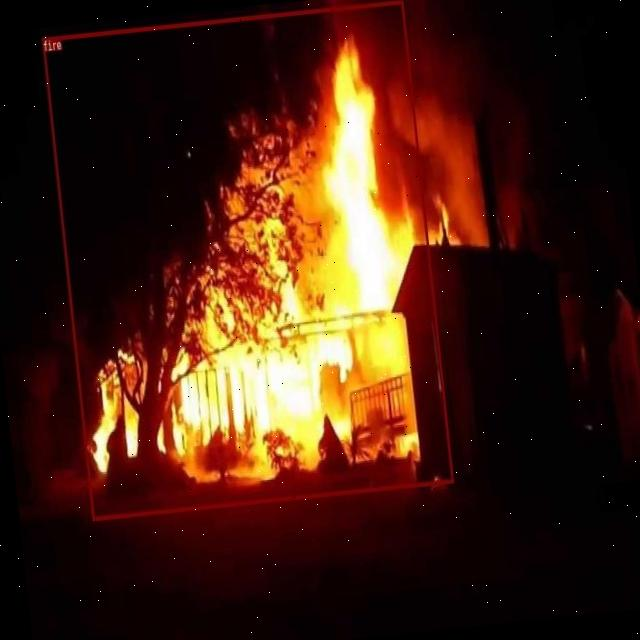fire: (41, 0, 453, 520)
